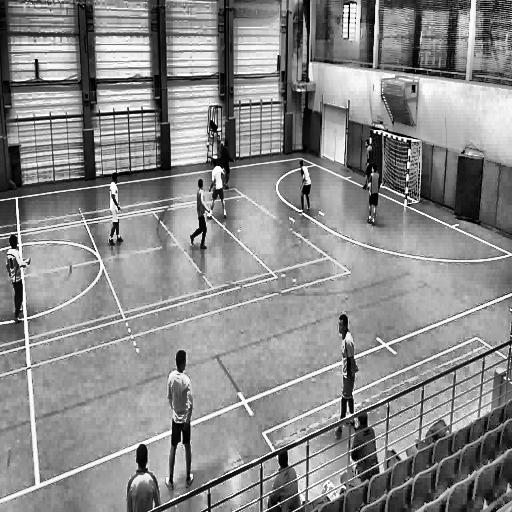ball: (205, 139, 212, 151)
player: (164, 347, 194, 492), (332, 309, 356, 442), (123, 442, 161, 512), (342, 412, 378, 485), (6, 235, 32, 325), (266, 445, 300, 512), (190, 177, 209, 254), (206, 159, 228, 223), (107, 173, 125, 248), (296, 156, 312, 217), (368, 163, 380, 234), (220, 137, 235, 190), (363, 134, 375, 191), (214, 128, 222, 164)
